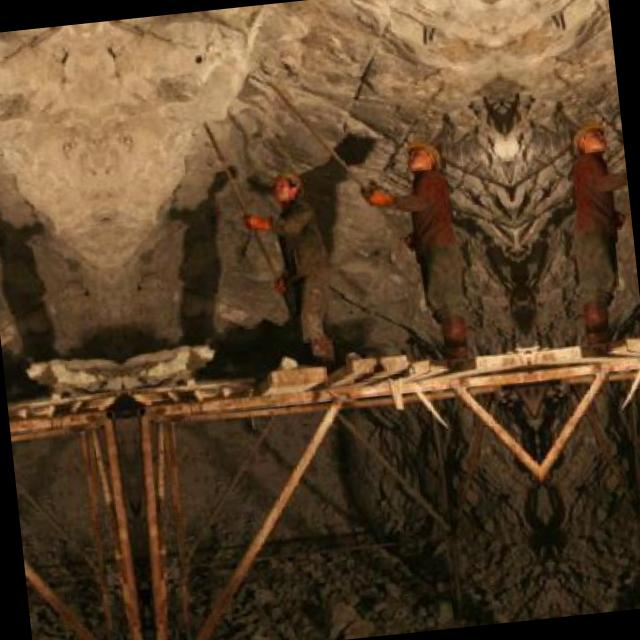helmet: (564, 112, 612, 156), (398, 130, 445, 174), (268, 167, 310, 204)
